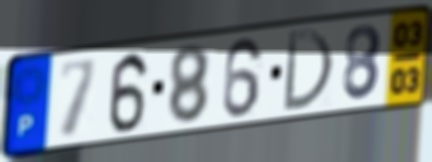6: (220, 34, 266, 121), (108, 49, 152, 135)
7: (58, 55, 98, 142)
8: (165, 40, 213, 128), (341, 23, 382, 102)
D: (280, 27, 336, 114)
